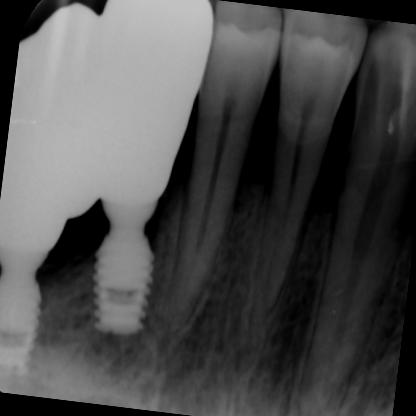Bicon: (80, 221, 164, 343), (0, 253, 50, 365)
